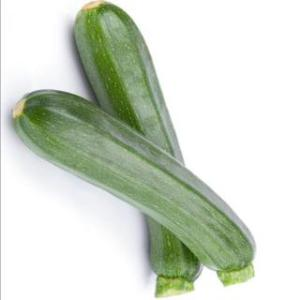zucchini: (13, 89, 257, 278)
